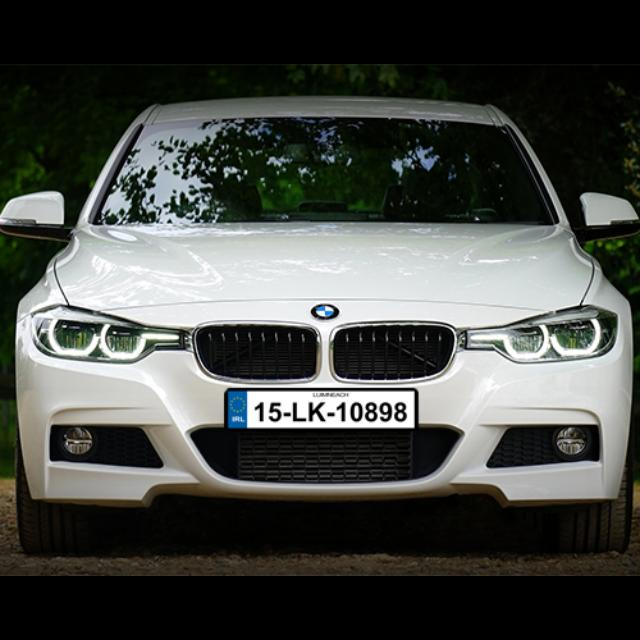carPlate: (225, 388, 418, 432)
